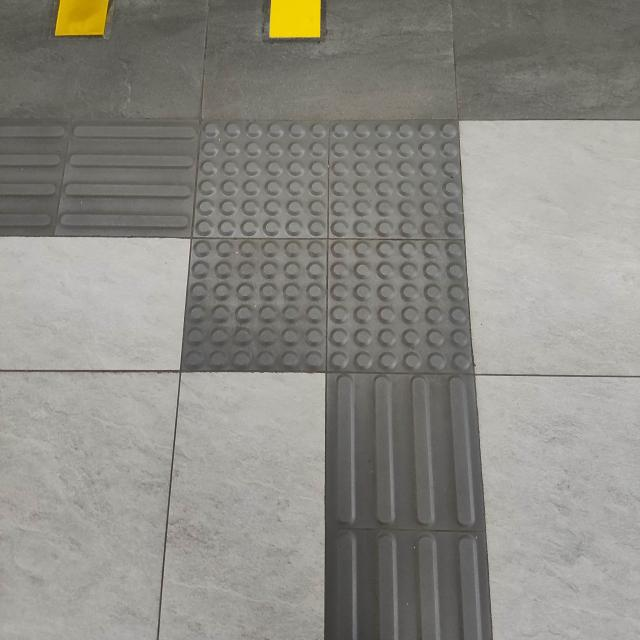kiri: (4, 63, 564, 480)
